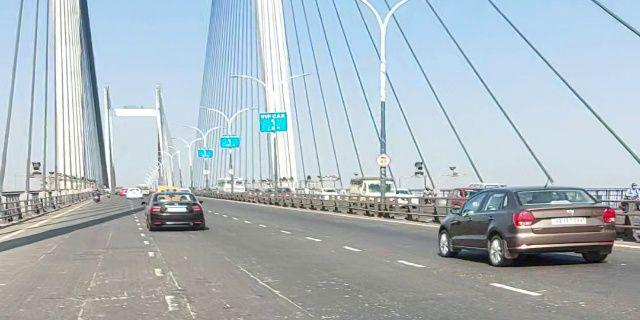Car: (434, 182, 625, 268), (139, 190, 209, 232)
